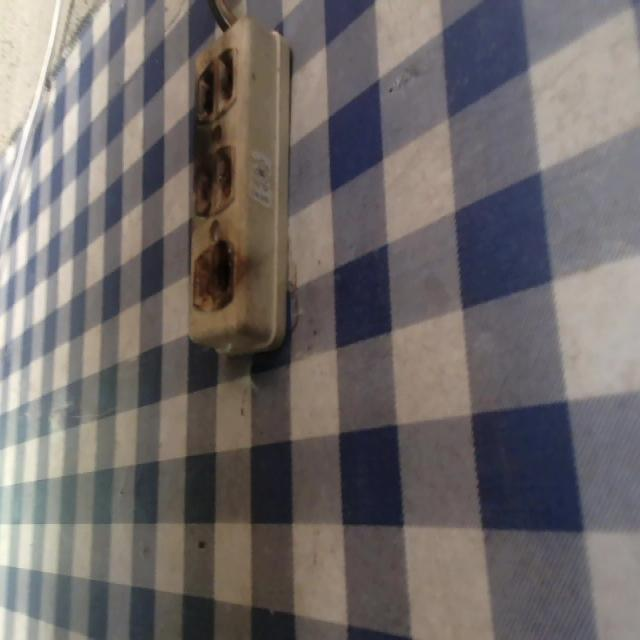-: (188, 235, 236, 312), (192, 43, 237, 120), (192, 143, 236, 213)
